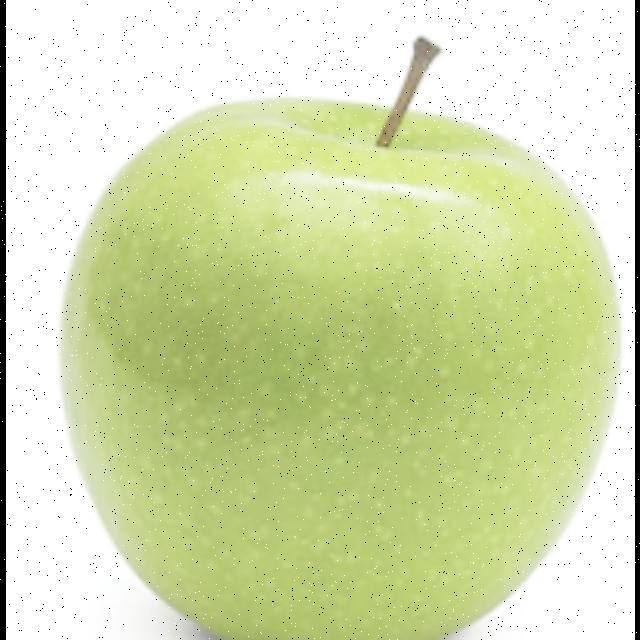Apel Segar: (54, 59, 625, 640)
